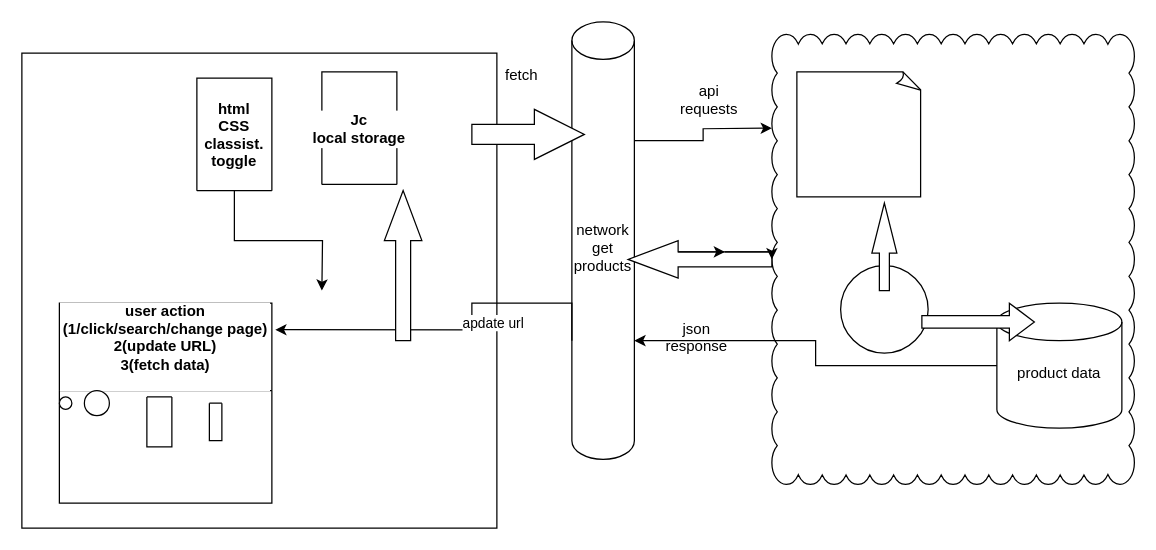
Image size: 1156x550. Some labels were removed from this diagram. The box of each missing label's shape, as (x1, y1, x2, y2) in pixels:
api routes: (839, 264, 928, 353)
js/ server code: (796, 71, 922, 197)
